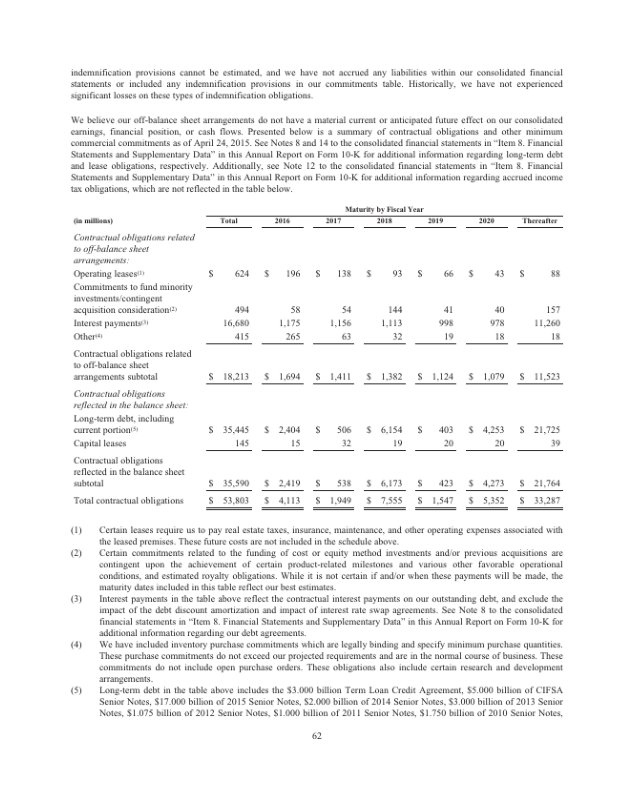table: (202, 203, 567, 516)
